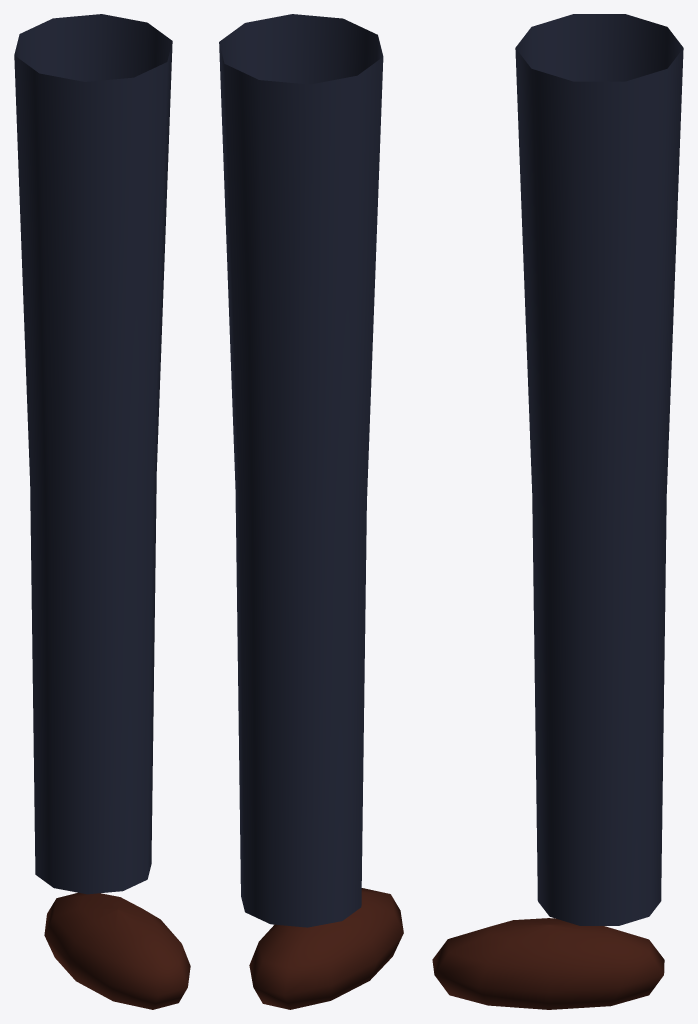
The model's file is SM_Avatar_LegR.fbx.
3 views of the same model, side by side, from view 1: azimuth 30°, elevation 25°; view 2: azimuth 150°, elevation 25°; view 3: azimuth 270°, elevation 25° (orthographic). The views are drawn at different scales.
Parts seen in each view (by area): view 1: SM_Avatar_LegR; view 2: SM_Avatar_LegR; view 3: SM_Avatar_LegR.
Part boxes in pixels (x1,y1,x2,y2): SM_Avatar_LegR: (14, 14, 190, 1009); SM_Avatar_LegR: (219, 14, 403, 1009); SM_Avatar_LegR: (432, 14, 683, 1009).
Size of the model in its own units: 0.1427 by 0.9323 by 0.224.
